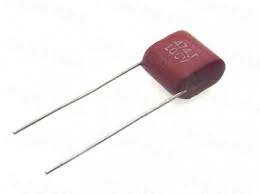ceramic capacitor: (114, 16, 238, 124)
